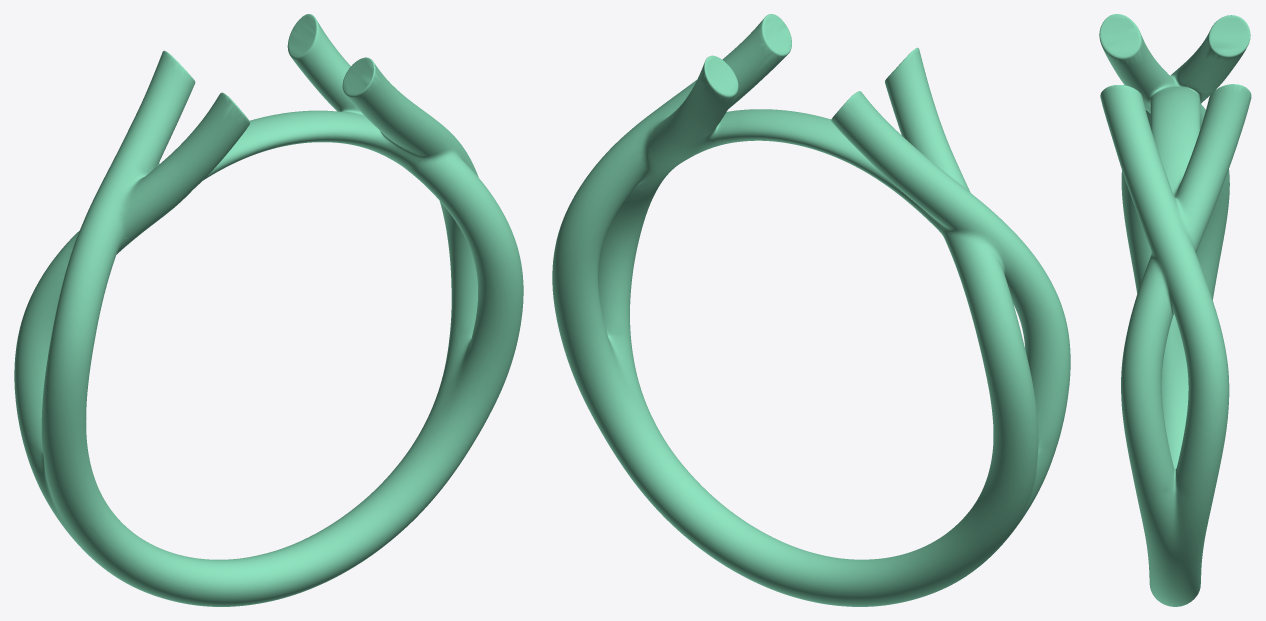
3 views of the same model, side by side, from view 1: azimuth 30°, elevation 25°; view 2: azimuth 150°, elevation 25°; view 3: azimuth 270°, elevation 25° (orthographic). The views are drawn at different scales.
Visible parts, largest first — view 1: Metal02; view 2: Metal02; view 3: Metal02.
Boxes of the visible parts, <box> form: Metal02: <box>14,14,523,606</box>; Metal02: <box>552,14,1070,606</box>; Metal02: <box>1099,14,1251,606</box>.
Bounding box in the file's own units: 21.09 × 22.86 × 5.91.
